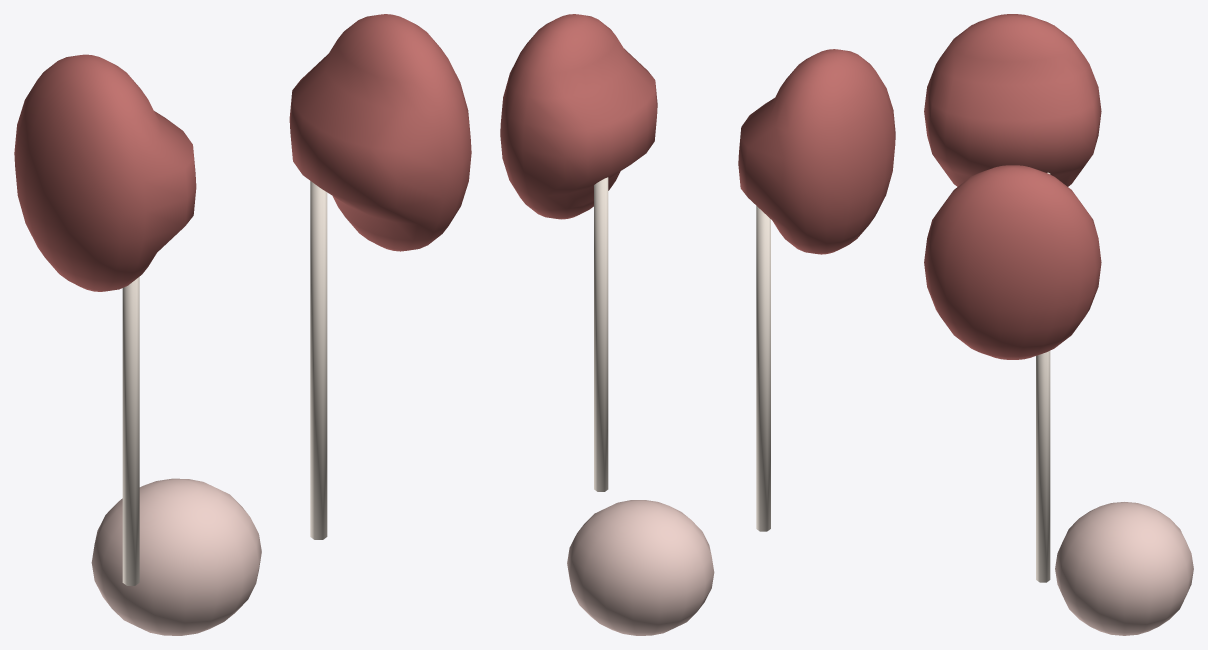
The model's file is Urinary_System.fbx.
3 views of the same model, side by side, from view 1: azimuth 30°, elevation 25°; view 2: azimuth 150°, elevation 25°; view 3: azimuth 270°, elevation 25° (orthographic). The views are drawn at different scales.
Parts seen in each view (by area): view 1: Kidney_Right, Kidney_Left, Urinary_Bladder, Ureter_Right, Ureter_Left; view 2: Kidney_Left, Kidney_Right, Urinary_Bladder, Ureter_Left, Ureter_Right; view 3: Kidney_Right, Kidney_Left, Urinary_Bladder, Ureter_Right.
Boxes of the visible parts, bbox=[...] form: Kidney_Right: bbox=[289, 14, 471, 251]; Kidney_Left: bbox=[14, 54, 196, 291]; Urinary_Bladder: bbox=[91, 478, 261, 635]; Ureter_Right: bbox=[310, 181, 327, 539]; Ureter_Left: bbox=[122, 277, 139, 585]; Kidney_Left: bbox=[738, 49, 895, 254]; Kidney_Right: bbox=[500, 14, 657, 219]; Urinary_Bladder: bbox=[567, 500, 714, 635]; Ureter_Left: bbox=[756, 206, 770, 531]; Ureter_Right: bbox=[594, 177, 608, 491]; Kidney_Right: bbox=[924, 165, 1101, 359]; Kidney_Left: bbox=[924, 14, 1101, 186]; Urinary_Bladder: bbox=[1055, 502, 1193, 635]; Ureter_Right: bbox=[1036, 351, 1050, 582].
Size of the model in its own units: 0.2001 by 0.2987 by 0.1329.
